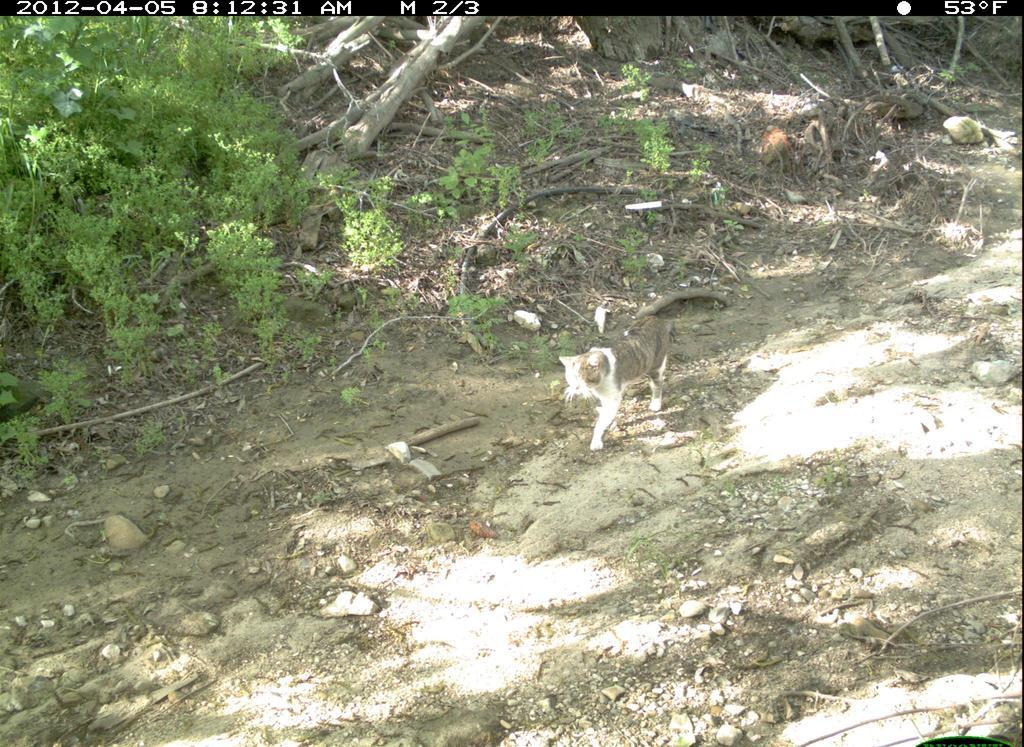cat: (552, 312, 683, 455)
